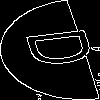D: (24, 25, 100, 69)
